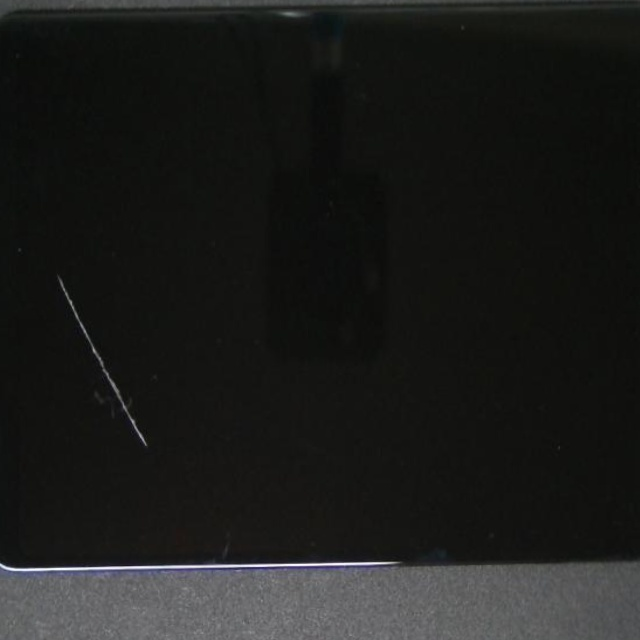scratch: (79, 275, 245, 640)
